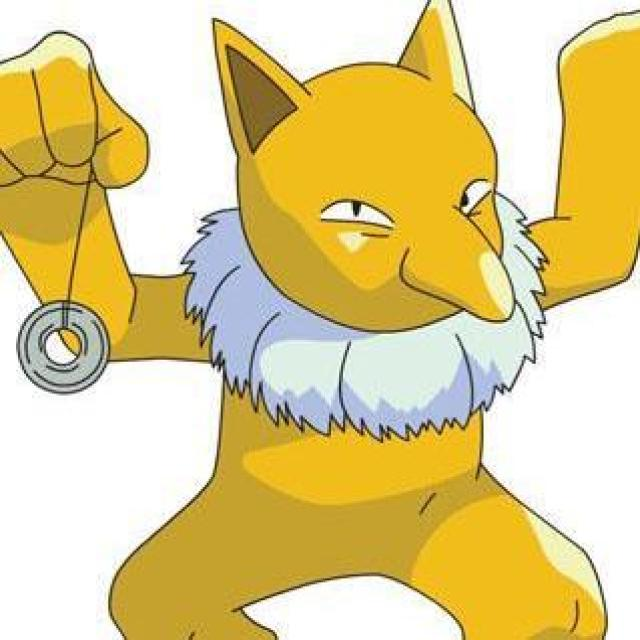Hypno: (0, 1, 640, 460)
